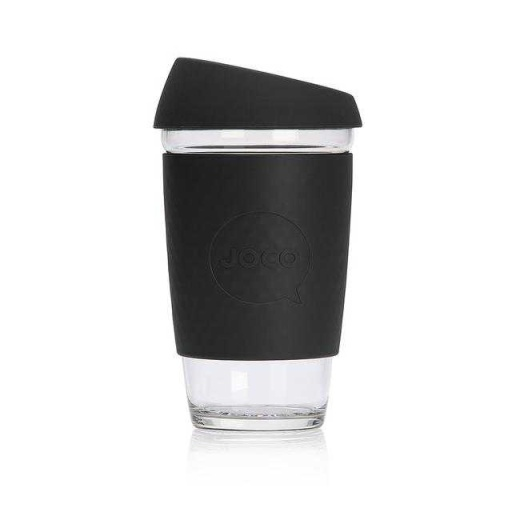cup: (152, 56, 362, 433)
